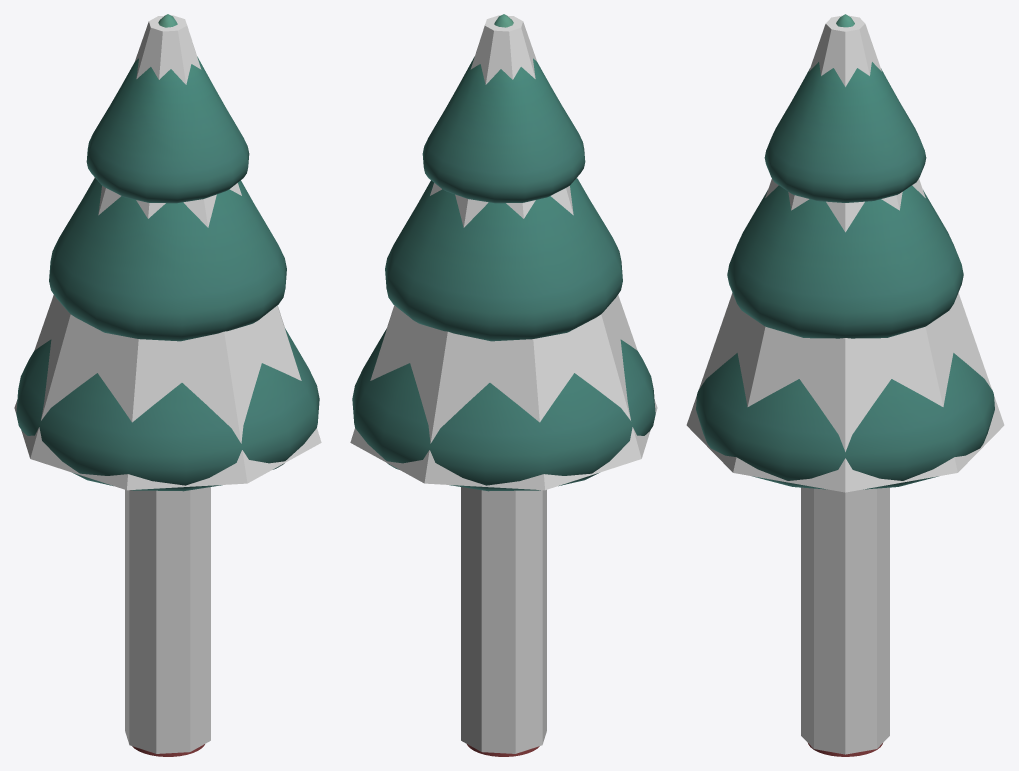
File: Tree.glb
The picture shows the model from 3 angles, left to right: view 1: azimuth 30°, elevation 25°; view 2: azimuth 150°, elevation 25°; view 3: azimuth 270°, elevation 25°; orthographic projection.
Visible parts, largest first — view 1: Tree, colision-colonly.014; view 2: Tree, colision-colonly.014; view 3: Tree, colision-colonly.014.
Part boxes in pixels (x1,y1,x2,y2): Tree: (16,14,319,756); colision-colonly.014: (14,15,321,753); Tree: (352,14,655,756); colision-colonly.014: (350,15,657,753); Tree: (696,14,994,756); colision-colonly.014: (686,15,1004,754).
Size of the model in its own units: 1.54 by 3.88 by 1.54.
1 material, 1 textured.
